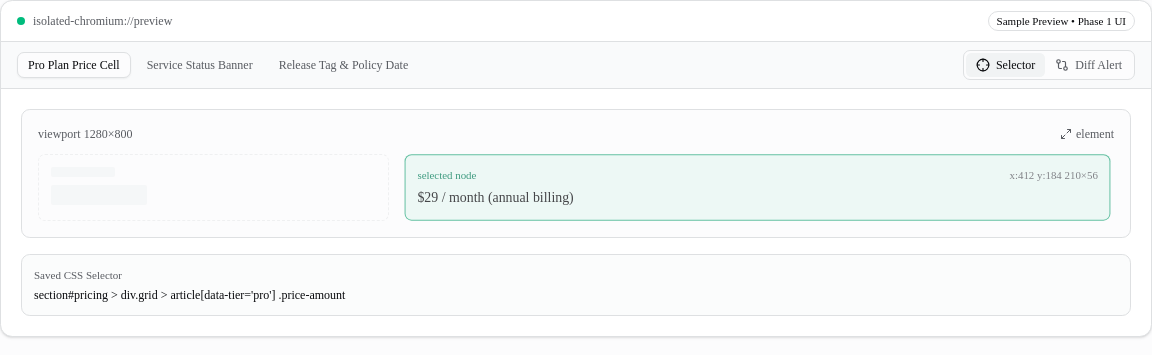
Scenario: InteractivePreview › switches between sample targets and diff mode
Expected: the text "Sample Preview • Phase 1 UI" is shown, [988,11,1135,31]
Expected: the text "$29 / month (annual billing)" is shown, [417,190,573,204]
Click the tab "Service Status Banner".
click(200, 65)  # box [137,53,263,77]
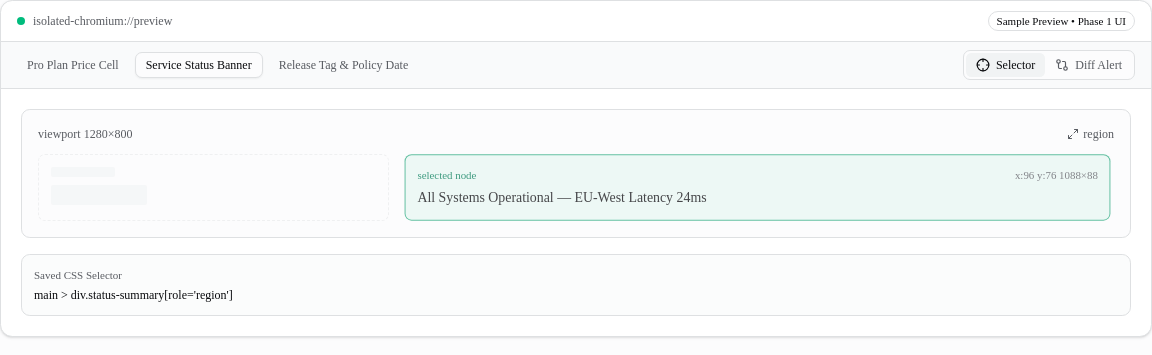
Expected: the text "All Systems Operational — EU-West Latency 24ms" is shown, [417,190,706,204]
Click the button "Diff Alert".
click(1089, 65)  # box [1045,53,1132,77]
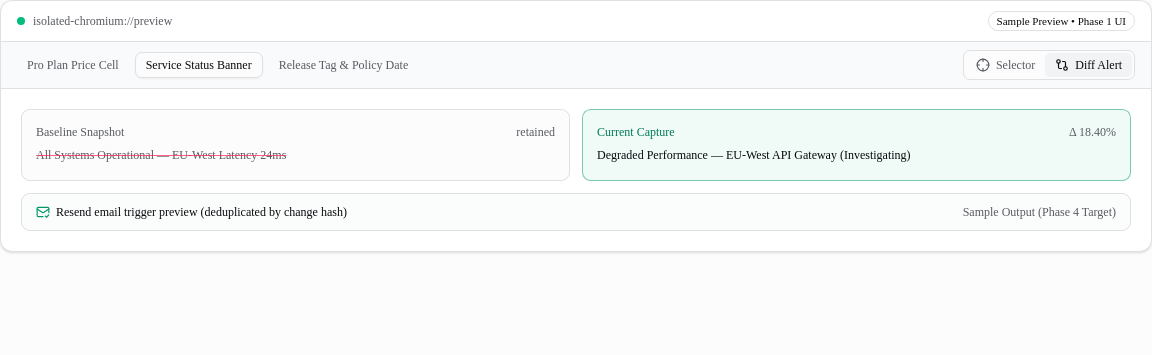
Expected: the text "Degraded Performance — EU-West API Gateway (Investigating)" is shown, [597,148,911,162]
